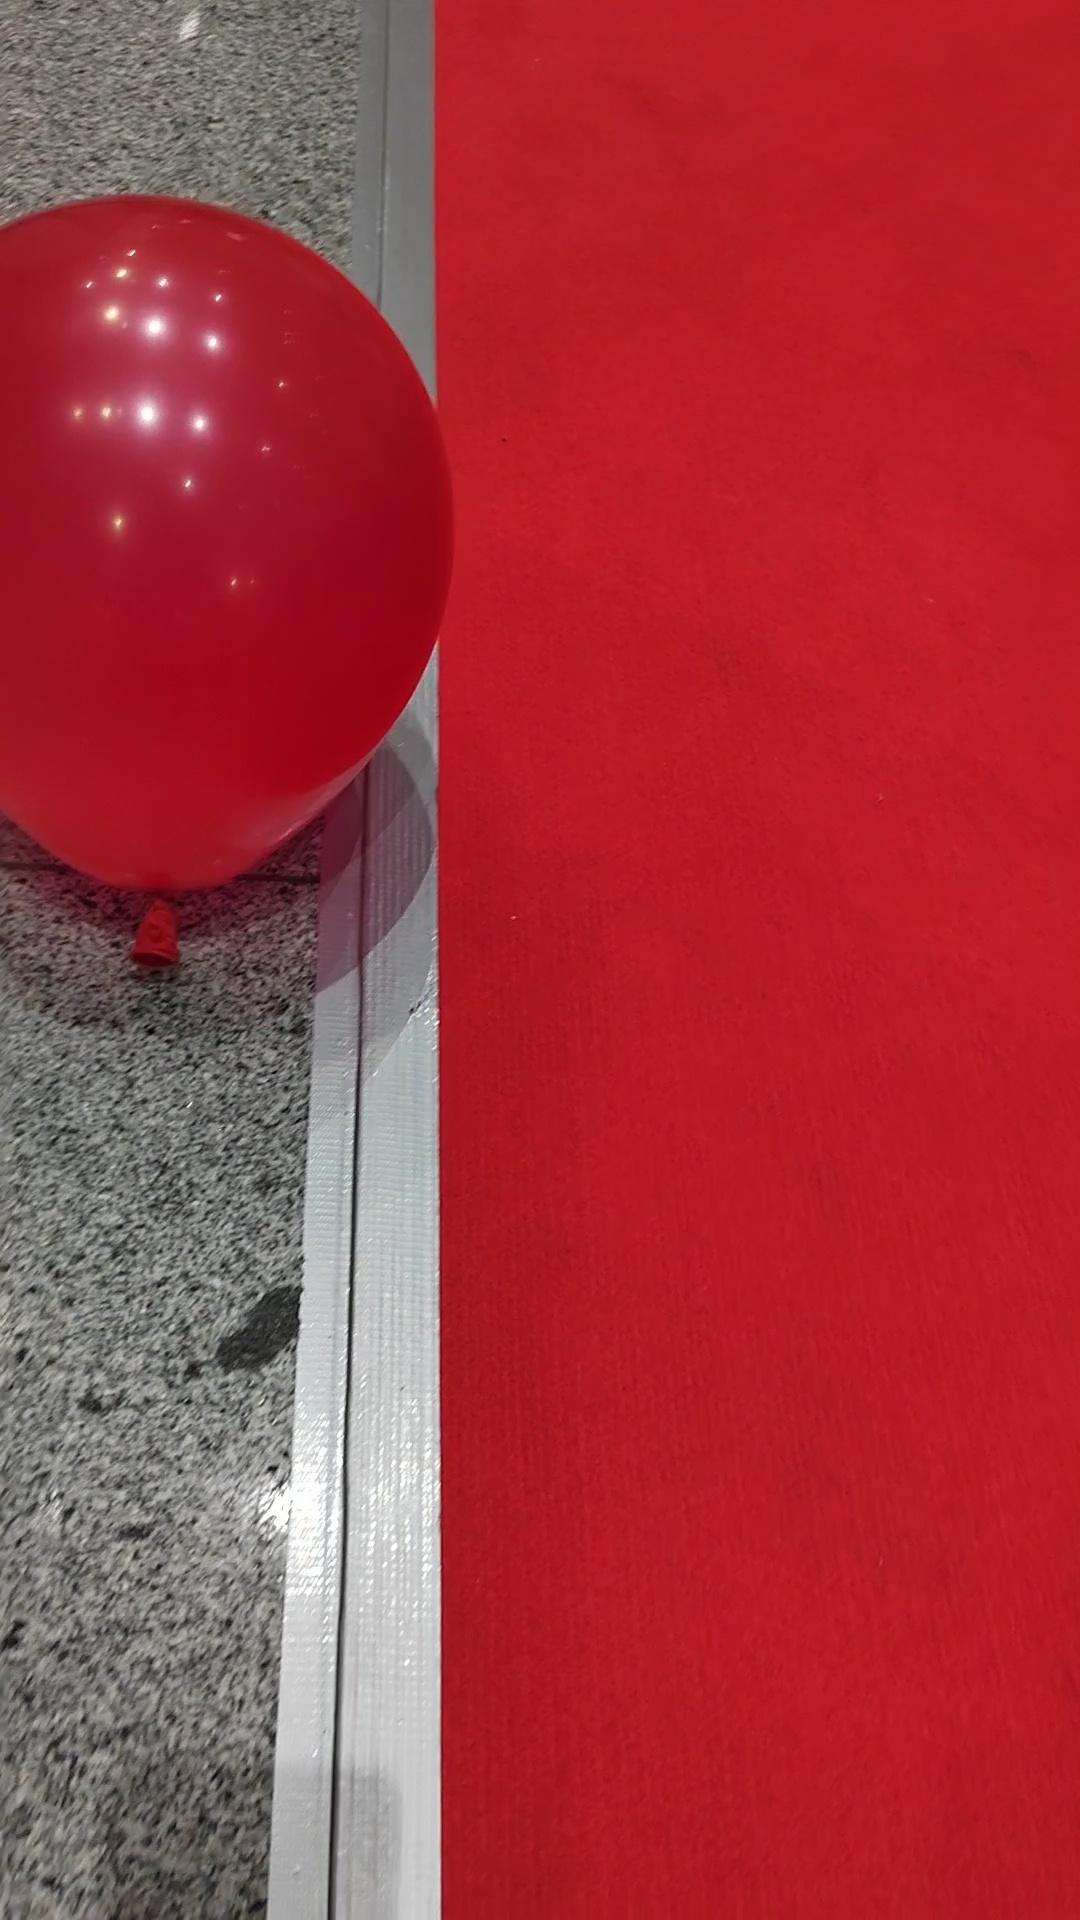red: (0, 200, 455, 909)
